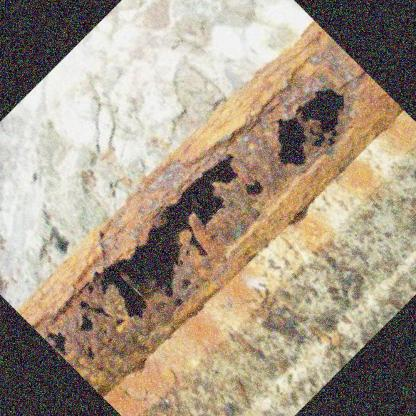burst: (81, 141, 246, 317), (268, 93, 358, 166)
